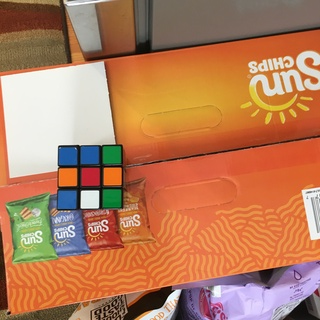face: (57, 145, 123, 209)
